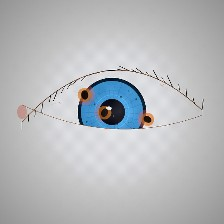foreign_body_visible: (127, 103, 168, 136)
